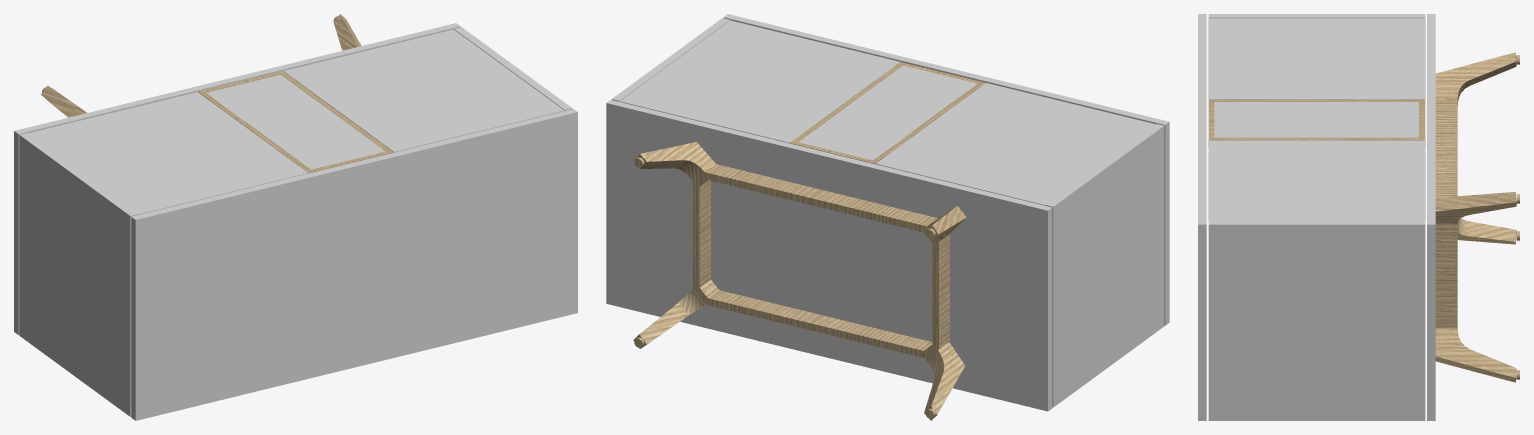
Rendered from Furniture_Shelving-Storage_CIDER-LA-MANUFACTURE_Gregor-Buffet.zip.obj.
3 views of the same model, side by side, from view 1: azimuth 30°, elevation 25°; view 2: azimuth 150°, elevation 25°; view 3: azimuth 270°, elevation 25° (orthographic). The views are drawn at different scales.
Parts seen in each view (by area): view 1: default; view 2: default; view 3: default.
Part boxes in pixels (left/top/right/bottom): default: left=14, top=14, right=577, bottom=420; default: left=606, top=14, right=1169, bottom=420; default: left=1198, top=14, right=1519, bottom=420.
Size of the model in its own units: 1036 by 450 by 669.
2 materials, 1 textured.
